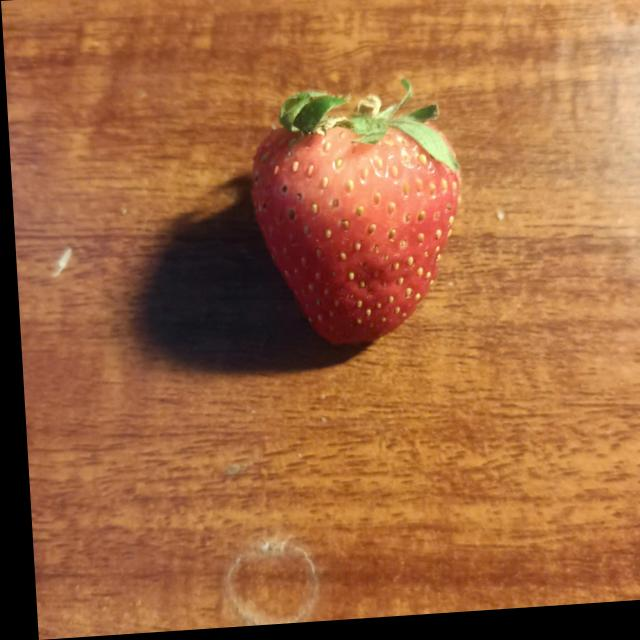DauTay: (220, 70, 491, 386)
